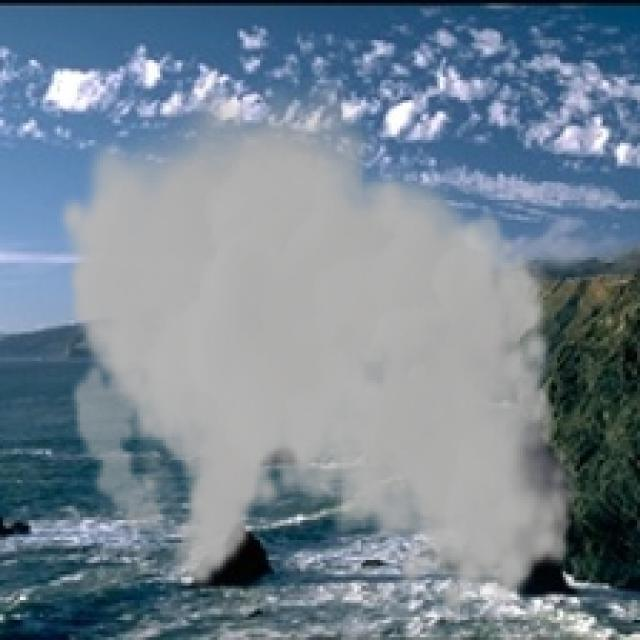Smoke: (54, 68, 577, 623)
